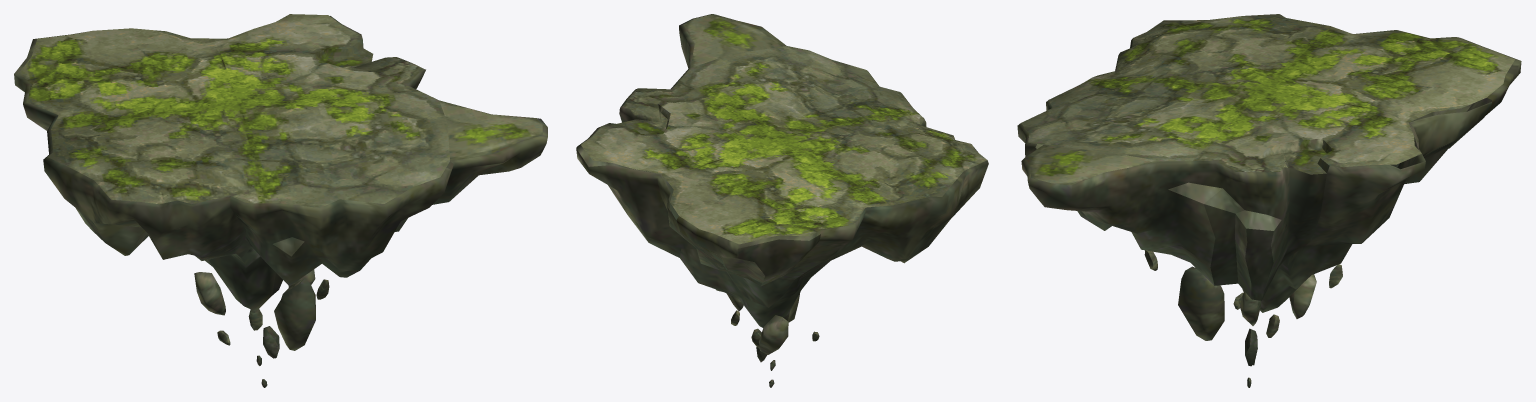
Rendered from Item_3002_shanshi01_jian.FBX.
3 renders of one model, left to right at view 1: azimuth 30°, elevation 25°; view 2: azimuth 150°, elevation 25°; view 3: azimuth 270°, elevation 25°, orthographic. The views are drawn at different scales.
Parts seen in each view (by area): view 1: Item_3002_shanshi01_jian; view 2: Item_3002_shanshi01_jian; view 3: Item_3002_shanshi01_jian.
Part boxes in pixels (<box>): Item_3002_shanshi01_jian: <box>14,14,547,387</box>; Item_3002_shanshi01_jian: <box>576,14,988,387</box>; Item_3002_shanshi01_jian: <box>1017,14,1521,387</box>.
Size of the model in its own units: 23394 by 16418 by 25496.
